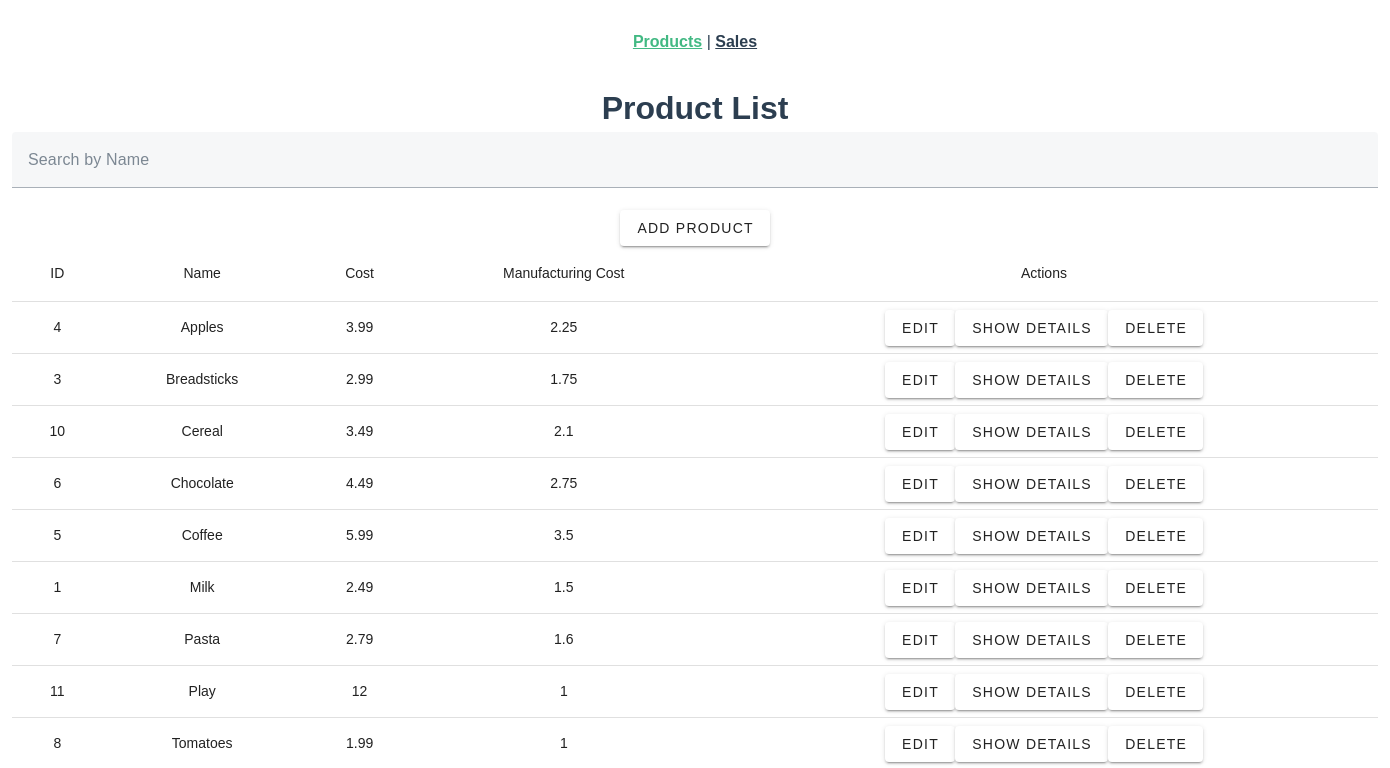
Scenario: Searching for a Product › Searches for a product by name
In the element with test id "search": (695, 171) [12, 132, 1378, 210], type "M"
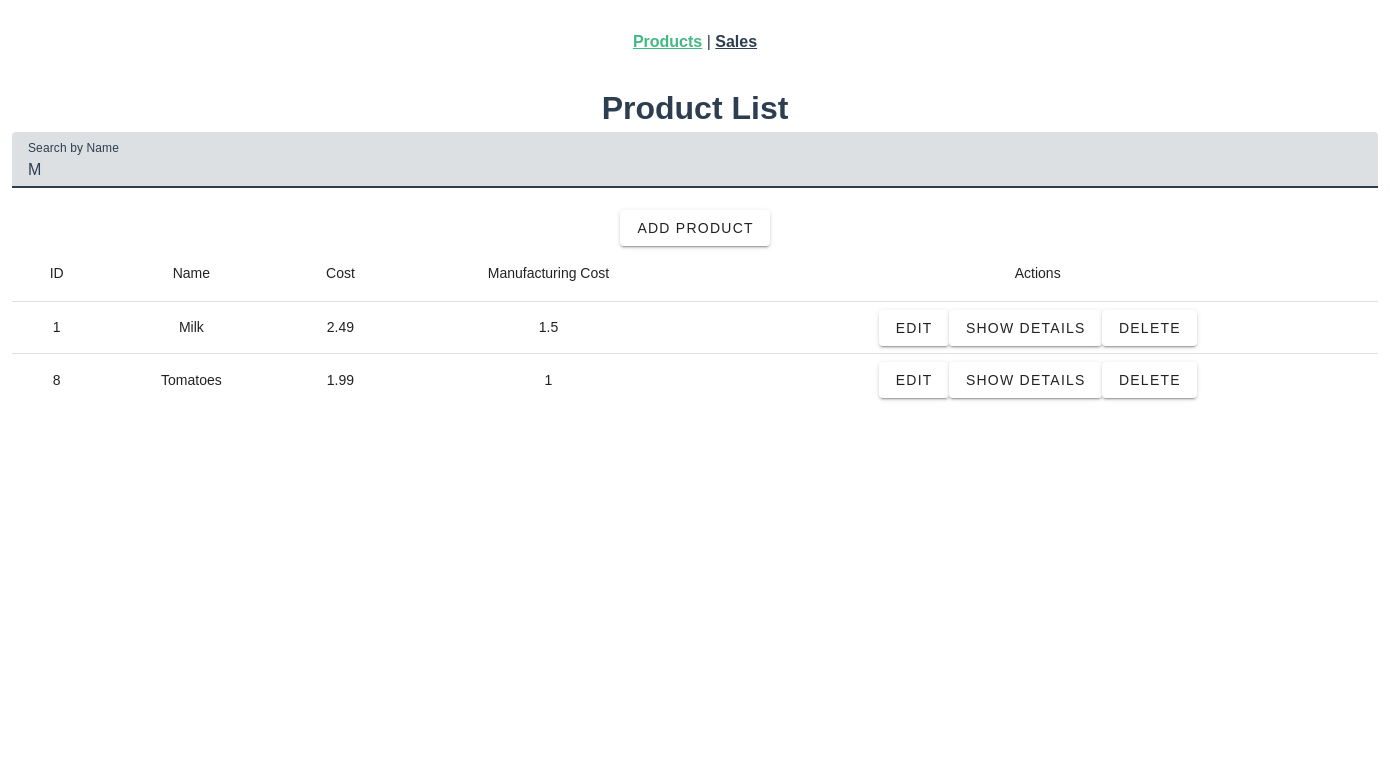
Expected: the text "Milk" is shown, [101, 302, 281, 354]
Expected: the text "Tomatoes" is shown, [101, 354, 281, 406]
In the element with test id "search": (695, 171) [12, 132, 1378, 210], type "ilk"
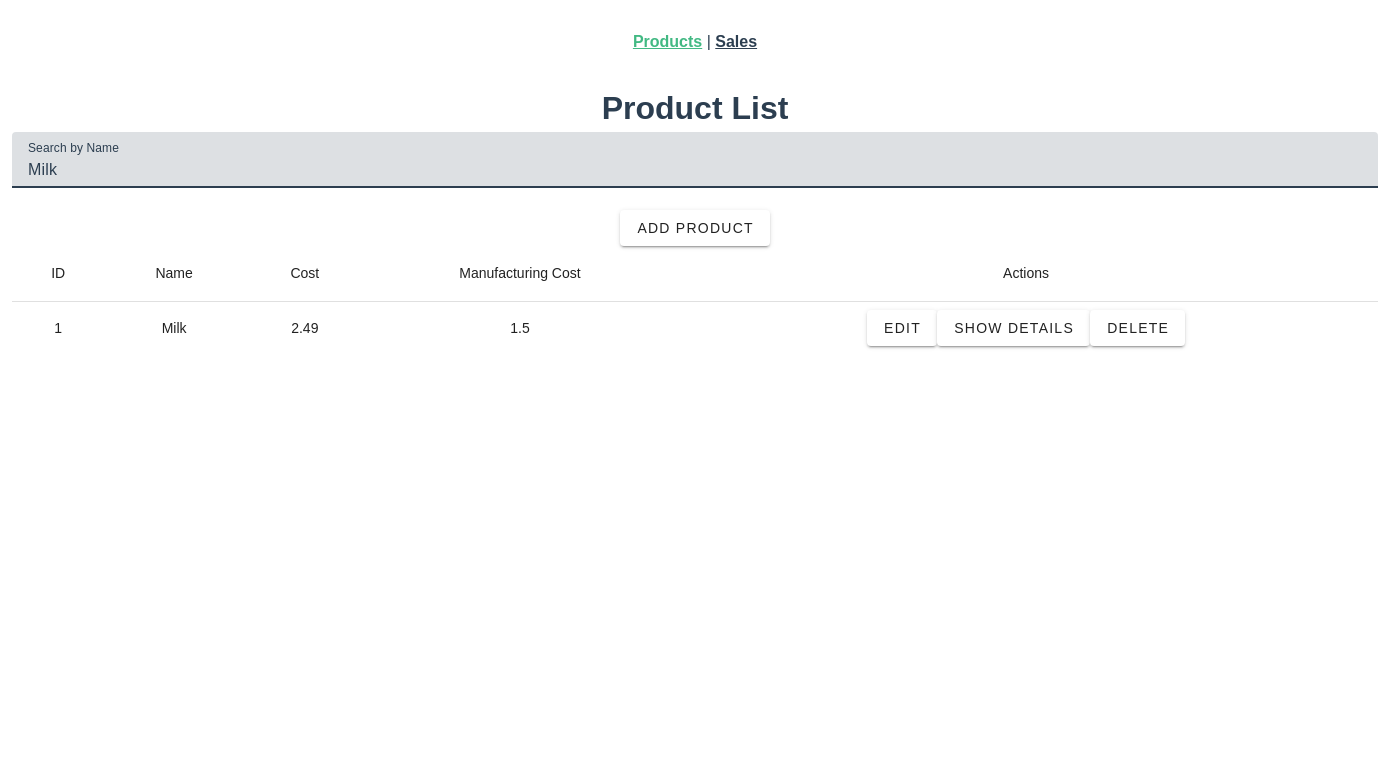
Expected: the text "Milk" is shown, [104, 302, 244, 354]
Expected: the text "Tomatoes" is gone
